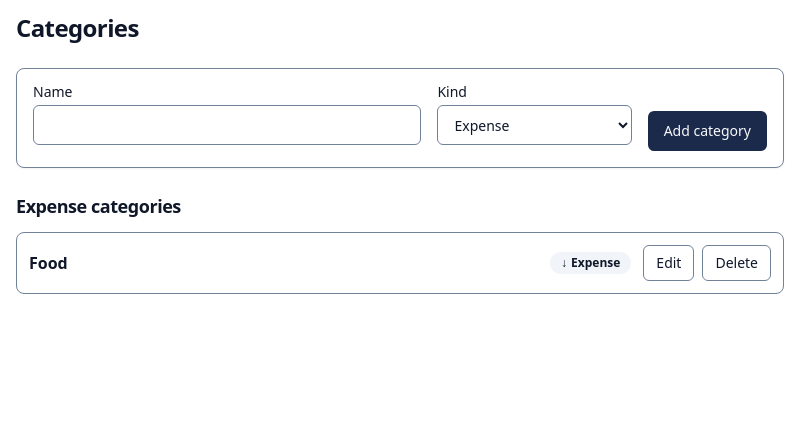
Test: create category (Story-003 AC-3) › T-026 submitting a name and a kind adds the row and resets the form
Expected: the text "Food" is shown, [29,252,68,274]
Type "  Salary " into the field labelled "Name" at (227, 125), box [33,105,421,145]
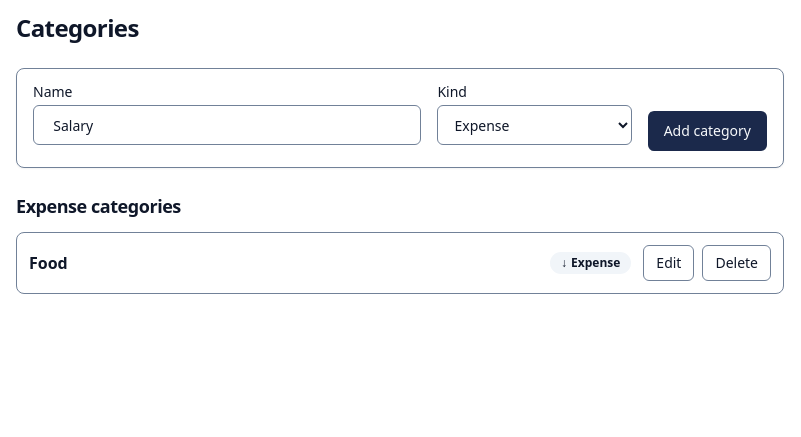
Select "Income" in the dropdown labelled "Kind" at (534, 125), box [437,105,632,145]
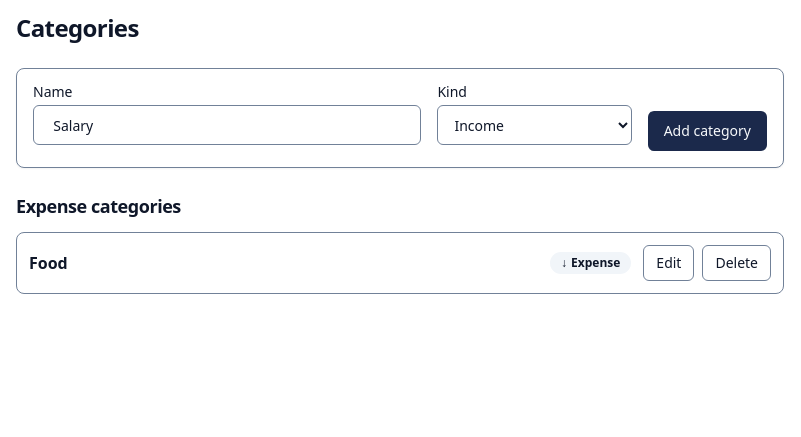
Click the button "Add category" at (707, 131), box [648,111,767,151]
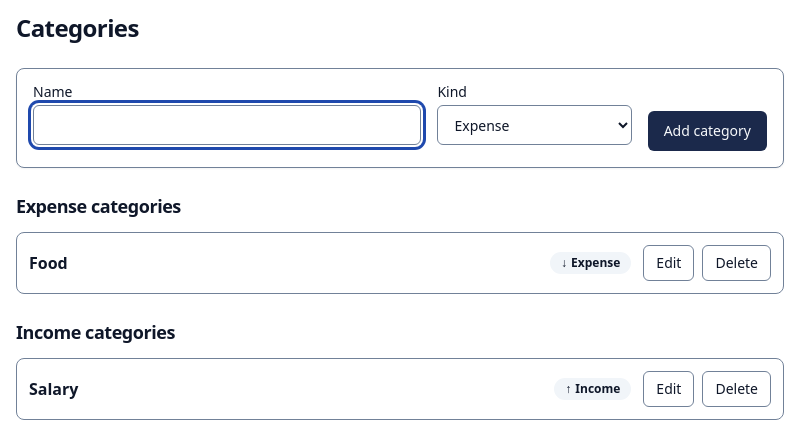
Expected: the text "Salary" is shown, [29,378,78,400]
Expected: the field labelled "Name" is empty, [33,105,421,145]
